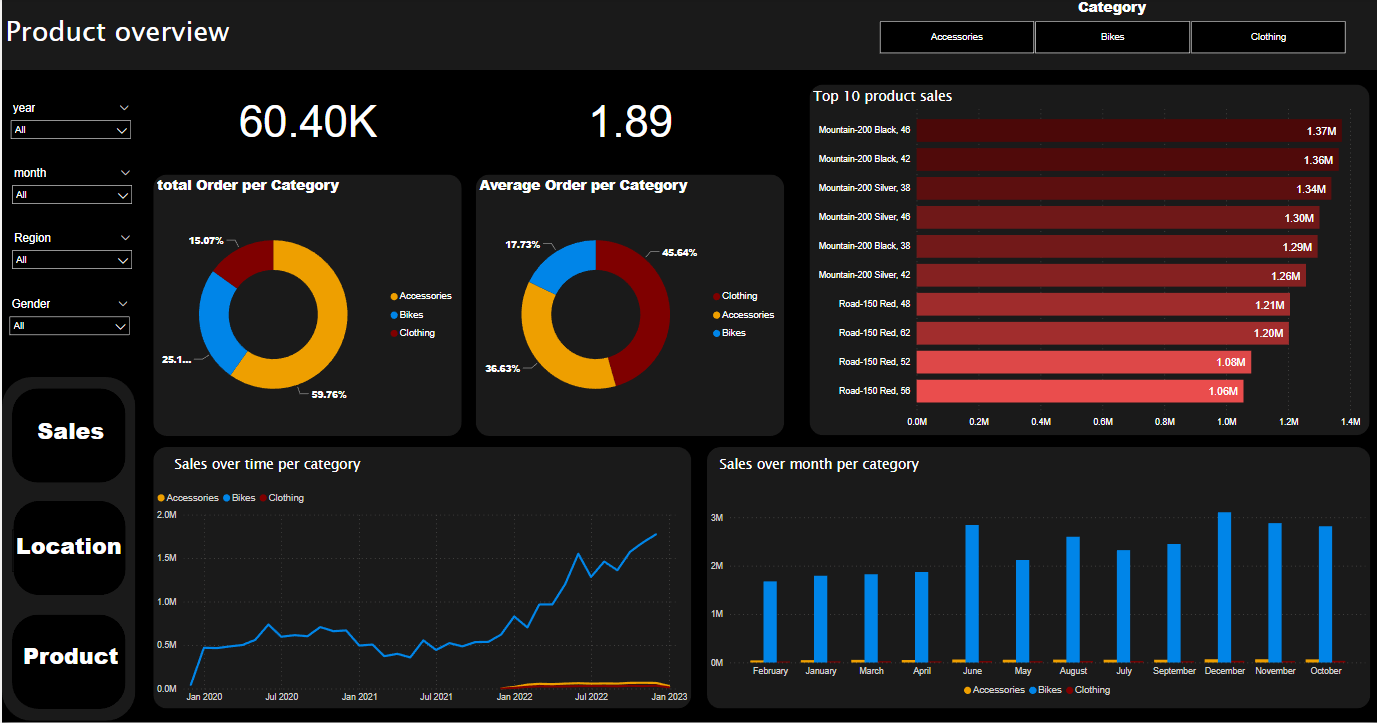

What the dashboard file says about the page in this screenshot:
{"tool":"powerbi","page":{"name":"product","canvas":[1900,1000],"ordinal":2},"visuals":[{"type":"shape","box":[0,525.2,184.3,474.6],"z":0},{"type":"shape","box":[16.3,695.6,154.9,130.5],"z":1000},{"type":"shape","box":[13,851.3,156.6,130.5],"z":2000},{"type":"shape","box":[13,539.8,156.6,130.5],"z":3000},{"type":"actionButton","title":"Sales","box":[17.9,575.7,154.9,58.7],"z":4000},{"type":"actionButton","title":"Location","box":[13,733.9,154.9,58.7],"z":5000},{"type":"actionButton","title":"Product","box":[17.9,887.2,154.9,58.7],"z":6000},{"type":"shape","box":[0,0,1900,101.1],"z":7000},{"type":"shape","box":[208.8,621.4,742.1,360.4],"z":8000},{"type":"lineChart","fields":{"Y":["Sum(Factorder.SalesAmount)"],"Series":["DimProduct.Category"],"Category":["DimDate.orderDate.Variation.Date Hierarchy.Year","DimDate.orderDate.Variation.Date Hierarchy.Quarter","DimDate.orderDate.Variation.Date Hierarchy.Month"]},"box":[208.8,670.3,742.1,311.5],"z":9000},{"type":"shape","box":[972,621.4,914.9,360.4],"z":10000},{"type":"clusteredColumnChart","fields":{"Series":["DimProduct.Category"],"Category":["DimDate.month"],"Y":["Sum(Factorder.SalesAmount)"]},"box":[972,670.3,914.9,305],"z":11000},{"type":"shape","box":[208.8,244.6,425.7,360.4],"z":12000},{"type":"shape","box":[654,244.6,425.7,360.4],"z":13000},{"type":"donutChart","title":"total Order per Category","fields":{"Category":["DimProduct.Category"],"Y":["CountNonNull(Factorder.OrderlineID)"]},"box":[208.8,244.6,425.7,360.4],"z":14000},{"type":"donutChart","title":"Average  Order per Category","fields":{"Category":["DimProduct.Category"],"Y":["Avg(Factorder.OrderlineID)"]},"box":[654,244.6,425.7,360.4],"z":15000},{"type":"card","fields":{"Values":["Avg(Factorder.OrderlineID)"]},"box":[678.5,120.7,378.4,93],"z":16000},{"type":"card","fields":{"Values":["CountNonNull(Factorder.OrderlineID)"]},"box":[233.2,120.7,378.4,93],"z":17000},{"type":"shape","box":[1113.9,120.7,773,484.4],"z":18000},{"type":"barChart","fields":{"Category":["DimProduct.productName"],"Y":["Sum(Factorder.SalesAmount)"]},"box":[1113.9,140.3,764.9,463.2],"z":19000},{"type":"slicer","title":"Category","fields":{"Values":["DimProduct.Category"]},"box":[1185.7,0,693.1,84.8],"z":20000},{"type":"textbox","box":[1113.9,117.4,484.4,44],"z":21000},{"type":"textbox","box":[233.2,626.3,484.4,44],"z":22000},{"type":"textbox","box":[985.1,626.3,484.4,44],"z":23000},{"type":"slicer","fields":{"Values":["DimDate.year"]},"box":[1.6,140.3,185.9,89.7],"z":24000},{"type":"slicer","fields":{"Values":["DimDate.month"]},"box":[3.3,230,185.9,89.7],"z":25000},{"type":"slicer","fields":{"Values":["Dimlocation.Region"]},"box":[3.3,319.7,185.9,89.7],"z":26000},{"type":"slicer","fields":{"Values":["Dimcastomer.Gender"]},"box":[0,411,185.9,89.7],"z":26001},{"type":"textbox","box":[0,14.7,484.4,70.1],"z":26002}]}

Visuals, with their boxes in screenshot pixels (x1, y1, x2, y2), scaled from the page's 1900x1000 canvas onto the 1377x723 screenshot:
shape: x1=0, y1=380, x2=134, y2=722
shape: x1=12, y1=503, x2=124, y2=597
shape: x1=9, y1=615, x2=123, y2=710
shape: x1=9, y1=390, x2=123, y2=485
"Sales" actionButton: x1=13, y1=416, x2=125, y2=459
"Location" actionButton: x1=9, y1=531, x2=122, y2=573
"Product" actionButton: x1=13, y1=641, x2=125, y2=684
shape: x1=0, y1=0, x2=1376, y2=73
shape: x1=151, y1=449, x2=689, y2=710
lineChart - Sum(Factorder.SalesAmount) x DimProduct.Category: x1=151, y1=485, x2=689, y2=710
shape: x1=704, y1=449, x2=1368, y2=710
clusteredColumnChart - DimProduct.Category x DimDate.month: x1=704, y1=485, x2=1368, y2=705
shape: x1=151, y1=177, x2=460, y2=437
shape: x1=474, y1=177, x2=782, y2=437
"total Order per Category" donutChart: x1=151, y1=177, x2=460, y2=437
"Average  Order per Category" donutChart: x1=474, y1=177, x2=782, y2=437
card - Avg(Factorder.OrderlineID): x1=492, y1=87, x2=766, y2=155
card - CountNonNull(Factorder.OrderlineID): x1=169, y1=87, x2=443, y2=155
shape: x1=807, y1=87, x2=1368, y2=437
barChart - DimProduct.productName x Sum(Factorder.SalesAmount): x1=807, y1=101, x2=1362, y2=436
"Category" slicer: x1=859, y1=0, x2=1362, y2=61
textbox: x1=807, y1=85, x2=1158, y2=117
textbox: x1=169, y1=453, x2=520, y2=485
textbox: x1=714, y1=453, x2=1065, y2=485
slicer - DimDate.year: x1=1, y1=101, x2=136, y2=166
slicer - DimDate.month: x1=2, y1=166, x2=137, y2=231
slicer - Dimlocation.Region: x1=2, y1=231, x2=137, y2=296
slicer - Dimcastomer.Gender: x1=0, y1=297, x2=135, y2=362
textbox: x1=0, y1=11, x2=351, y2=61
